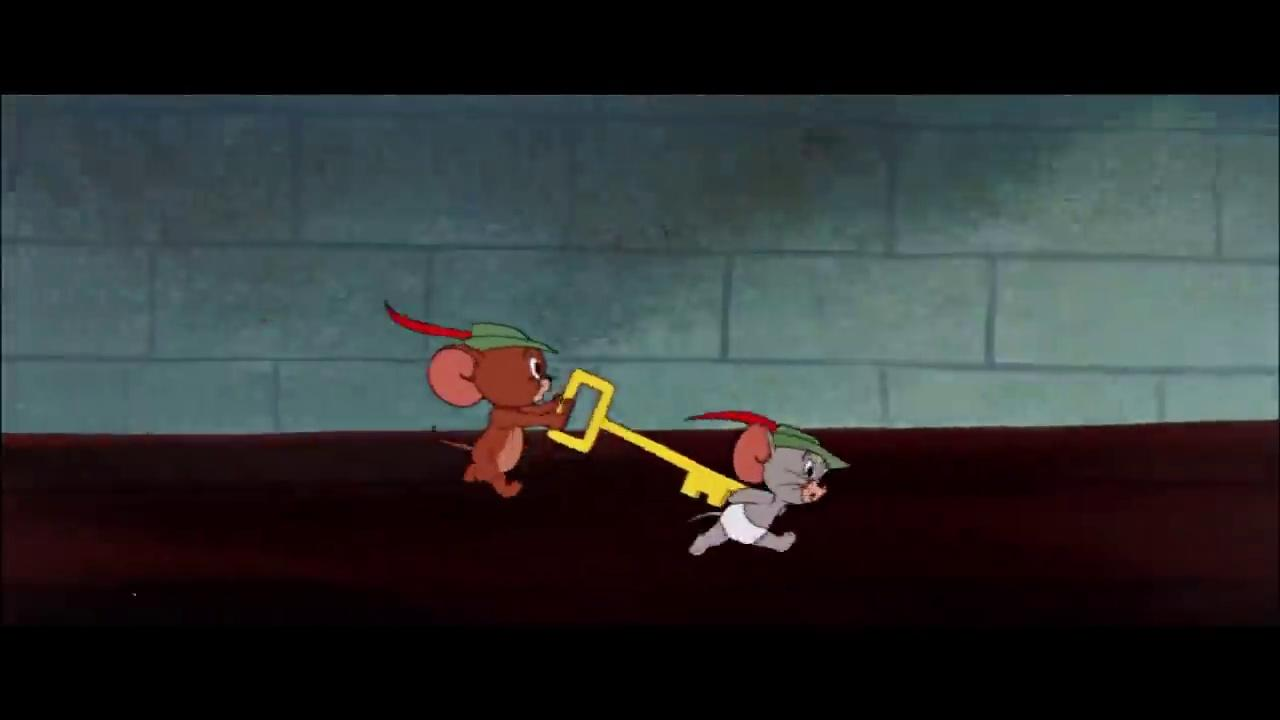Jerry: (426, 343, 576, 500)
